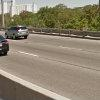Car: (1, 19, 27, 56)
